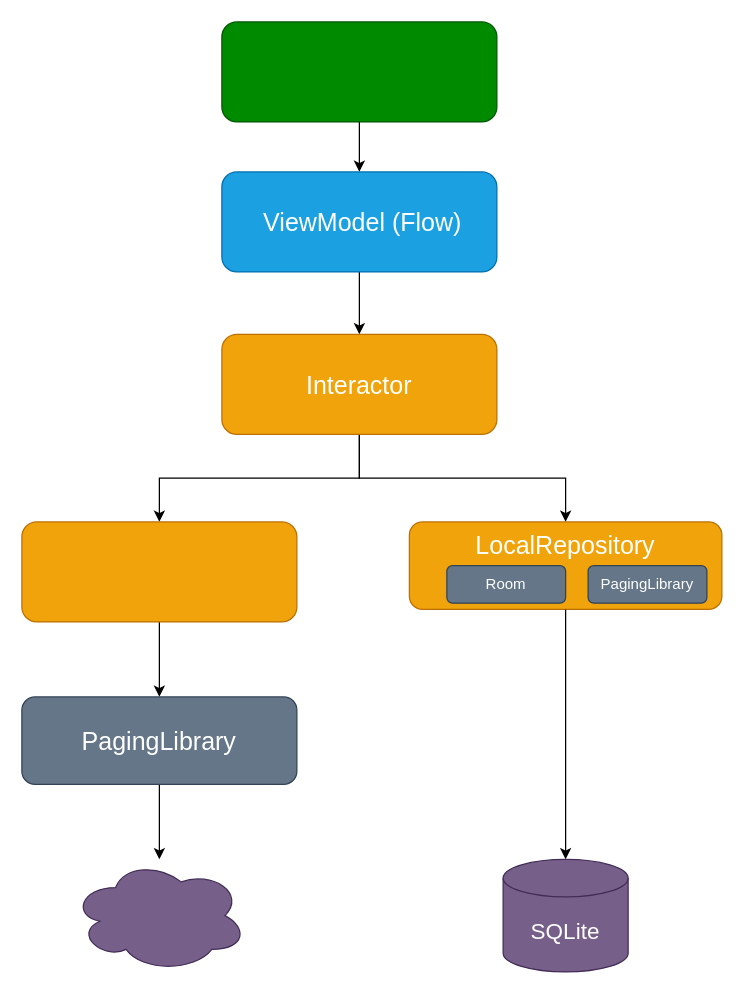
Image size: 744x994. Some labels were removed from this diagram. The shapes that lost their labels are listed below. From the top down, each one's centre as x and y in pixels, then its label:
pixel 359 71: Activity/Fragment
pixel 159 571: RemoteRepository
pixel 159 915: Retrofit
